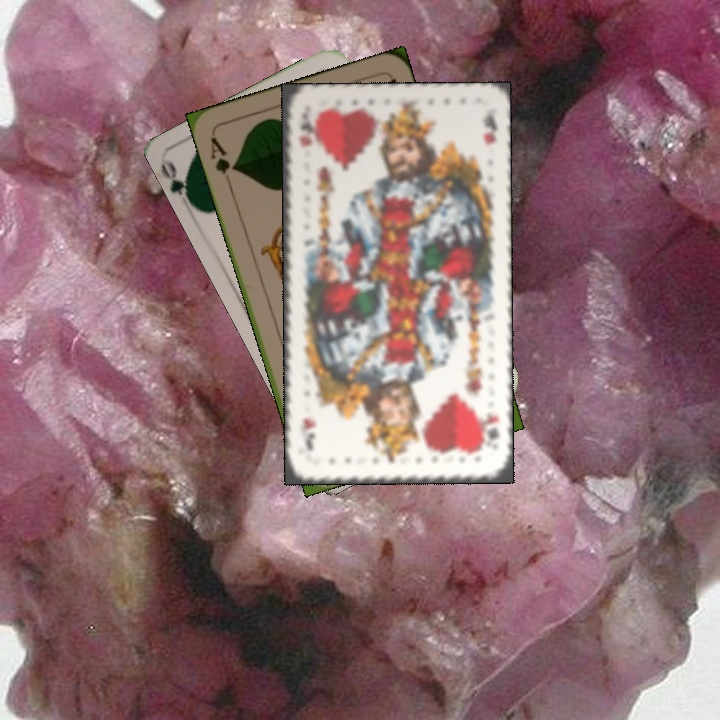GA: (206, 133, 239, 189)
GO: (158, 157, 199, 211)
HK: (477, 407, 503, 453), (296, 116, 316, 150)
